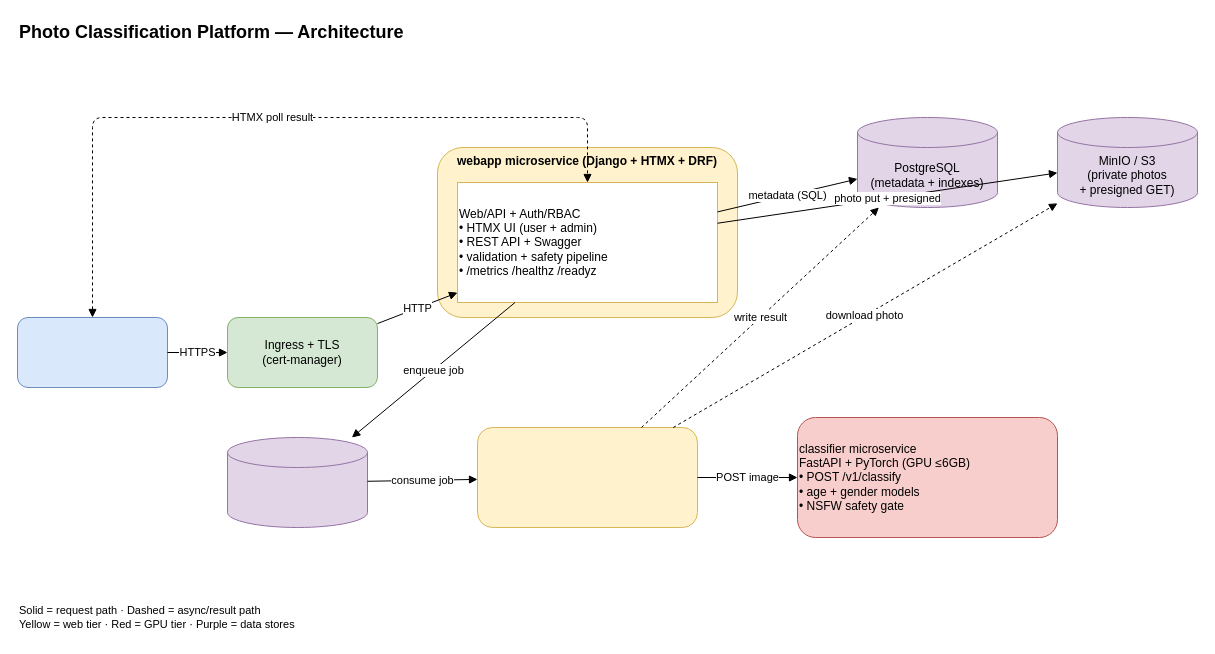
The diagram is 1215 pixels wide and 654 high, and some of its shapes have lost their labels. Each missing label, with the centre of its shape:
Redis (broker/result + throttle cache): (297,482)
User / Admin Browser (HTMX): (92,352)
worker microservice (Celery) • classify task • calls classifier: (587,477)
